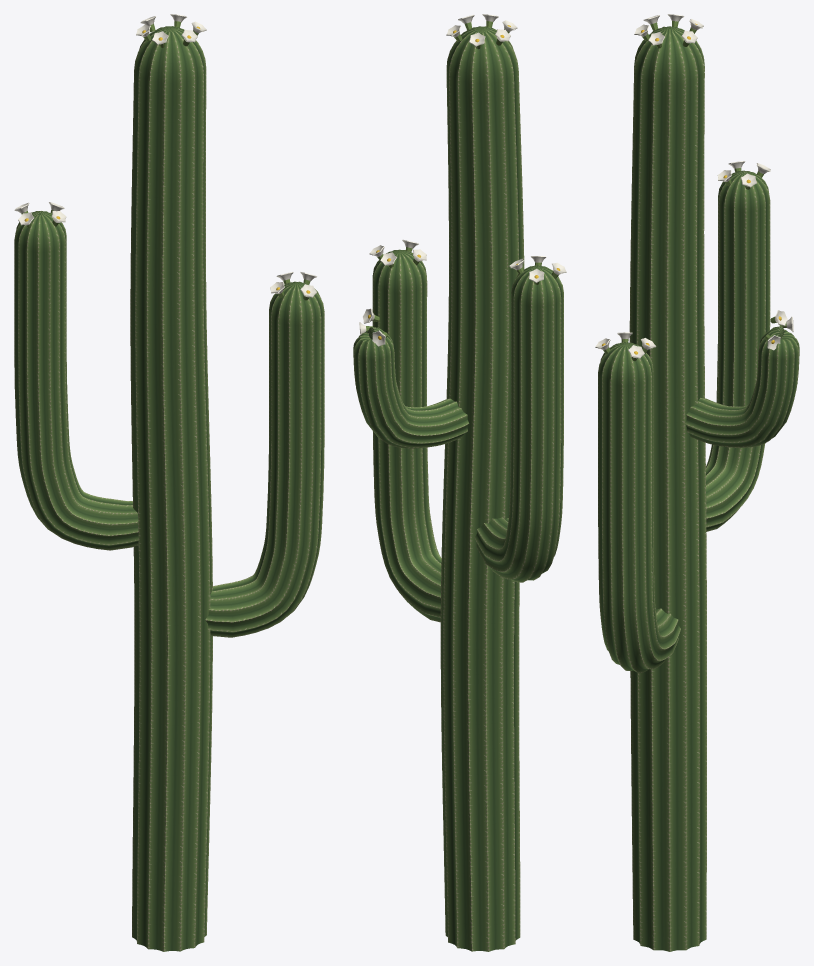
File: saguaro-cactus.glb
3 views of the same model, side by side, from view 1: azimuth 30°, elevation 25°; view 2: azimuth 150°, elevation 25°; view 3: azimuth 270°, elevation 25° (orthographic).
Parts seen in each view (by area): view 1: Saguaro_Cactus; view 2: Saguaro_Cactus; view 3: Saguaro_Cactus.
Part boxes in pixels (left/top/right/bottom): Saguaro_Cactus: left=14, top=14, right=324, bottom=951; Saguaro_Cactus: left=353, top=14, right=566, bottom=951; Saguaro_Cactus: left=595, top=14, right=799, bottom=951.
Size of the model in its own units: 2.04 by 7.25 by 1.47.
Materials: 4 (1 with a texture image).
